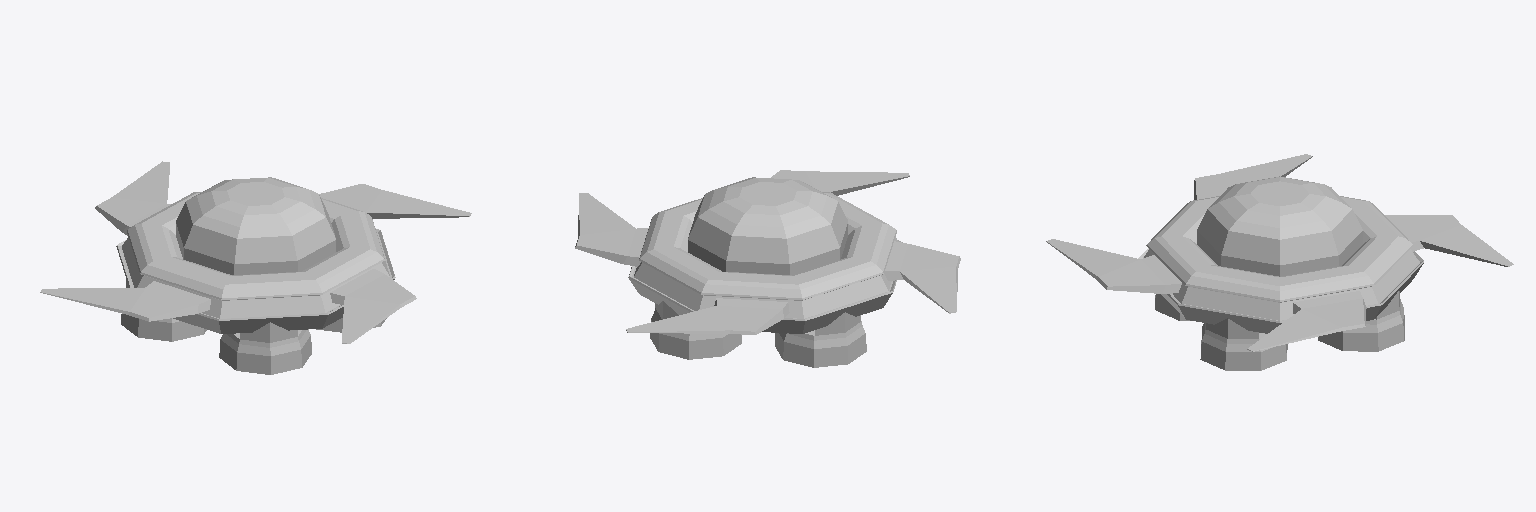
Rendered from Blade.obj.
3 views of the same model, side by side, from view 1: azimuth 30°, elevation 25°; view 2: azimuth 150°, elevation 25°; view 3: azimuth 270°, elevation 25° (orthographic).
Parts seen in each view (by area): view 1: Cube.002, Cube.001; view 2: Cube.002, Cube.001; view 3: Cube.002, Cube.001.
Part boxes in pixels (x1,y1,x2,y2): Cube.002: (116,177,395,374); Cube.001: (40,161,471,343); Cube.002: (628,177,902,367); Cube.001: (575,170,960,334); Cube.002: (1138,176,1423,370); Cube.001: (1046,154,1513,351).
Bounding box in the file's own units: 4.25 × 1.24 × 4.25.